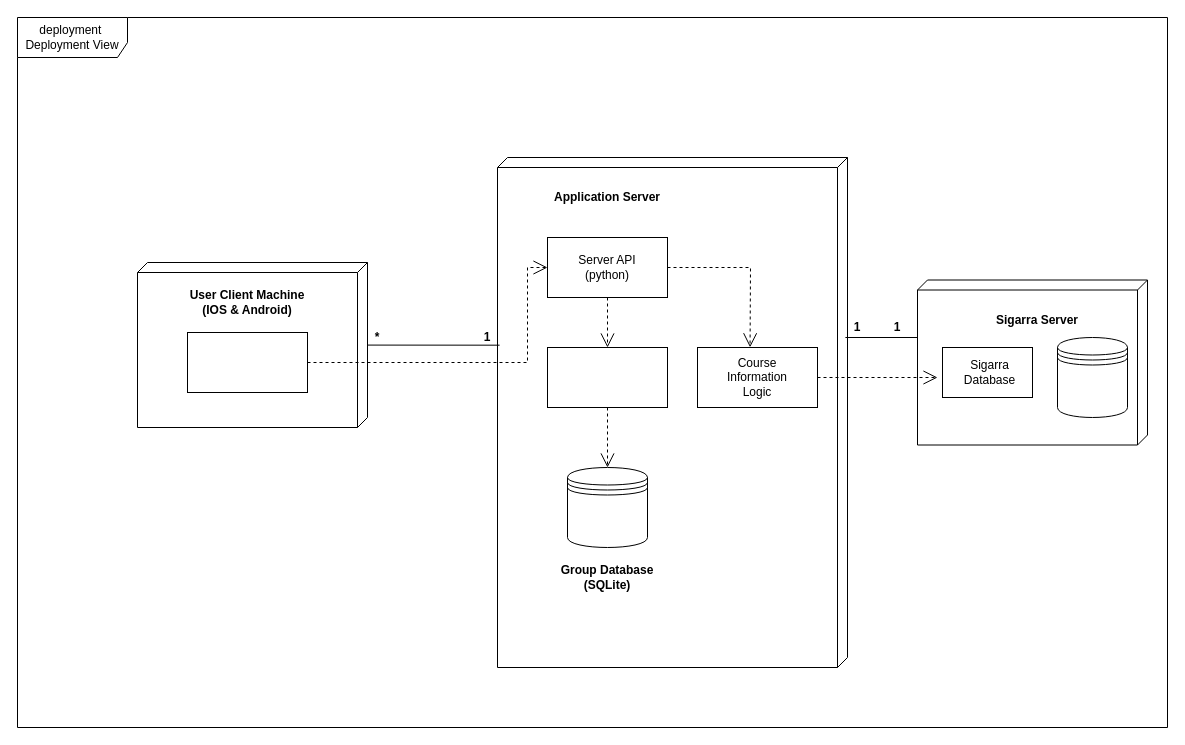
Image size: 1185x745. Some labels were removed from this diagram. Here are the shapes that lost their labels. From the top down, the centre of each, then its label:
At (247,362): "Mobile App (Flutter)".
At (607,377): "Group Formation Logic".
